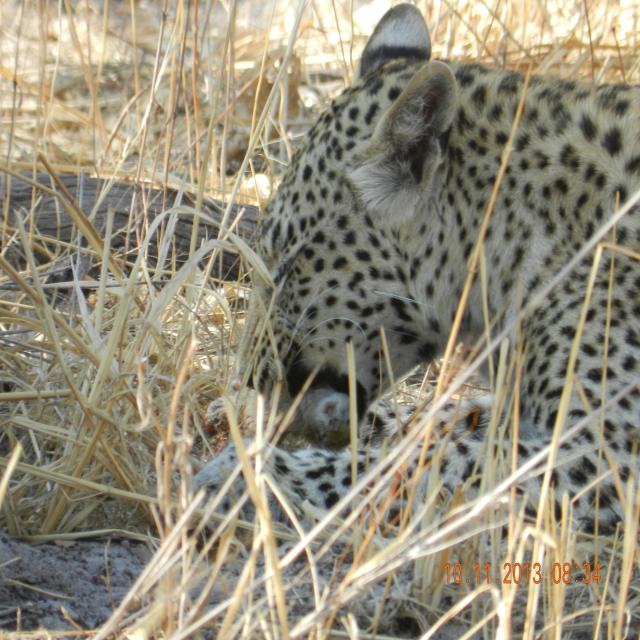Leopard: (182, 0, 639, 554)
